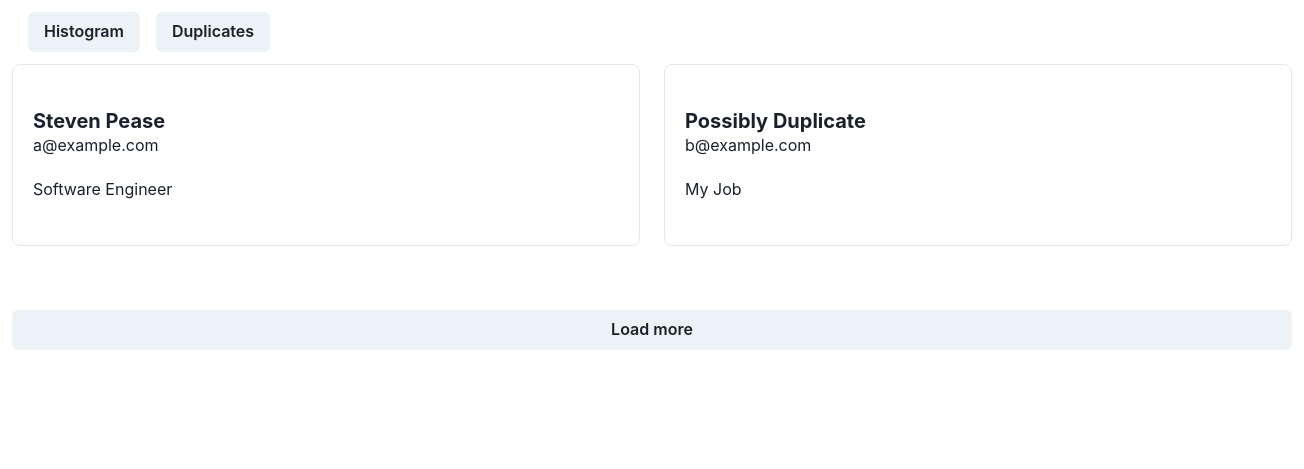
Test: App › renders more people on load more
Expected: the text "a@example.com" is shown, [33,135,158,155]
Expected: the text "b@example.com" is shown, [685,135,811,155]
Click the button "Load more".
click(652, 330)  # box [12,310,1292,350]
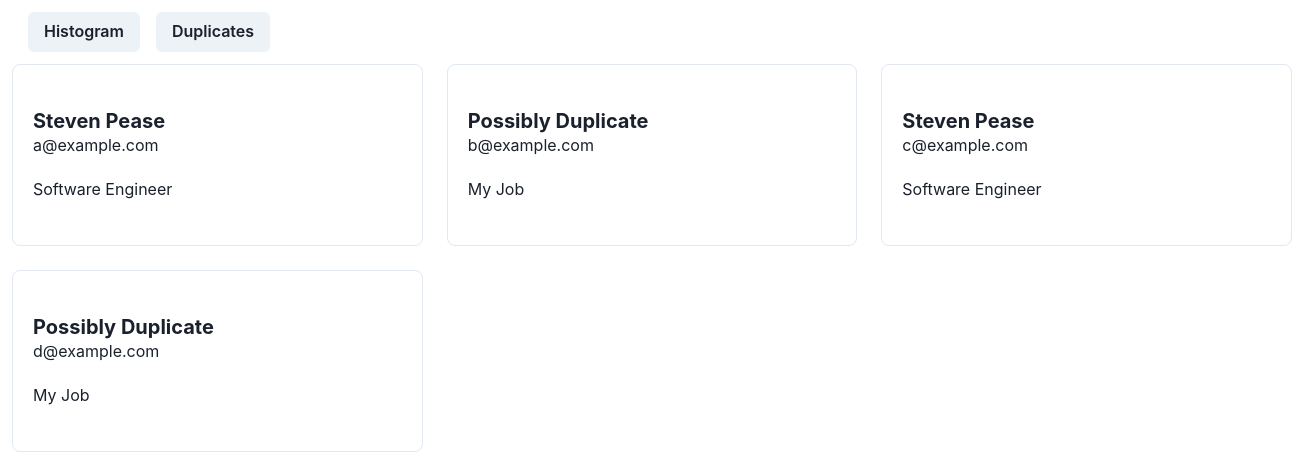
Now the text "c@example.com" is shown, box [902,135,1028,155]
Now the text "d@example.com" is shown, box [33,341,159,361]
